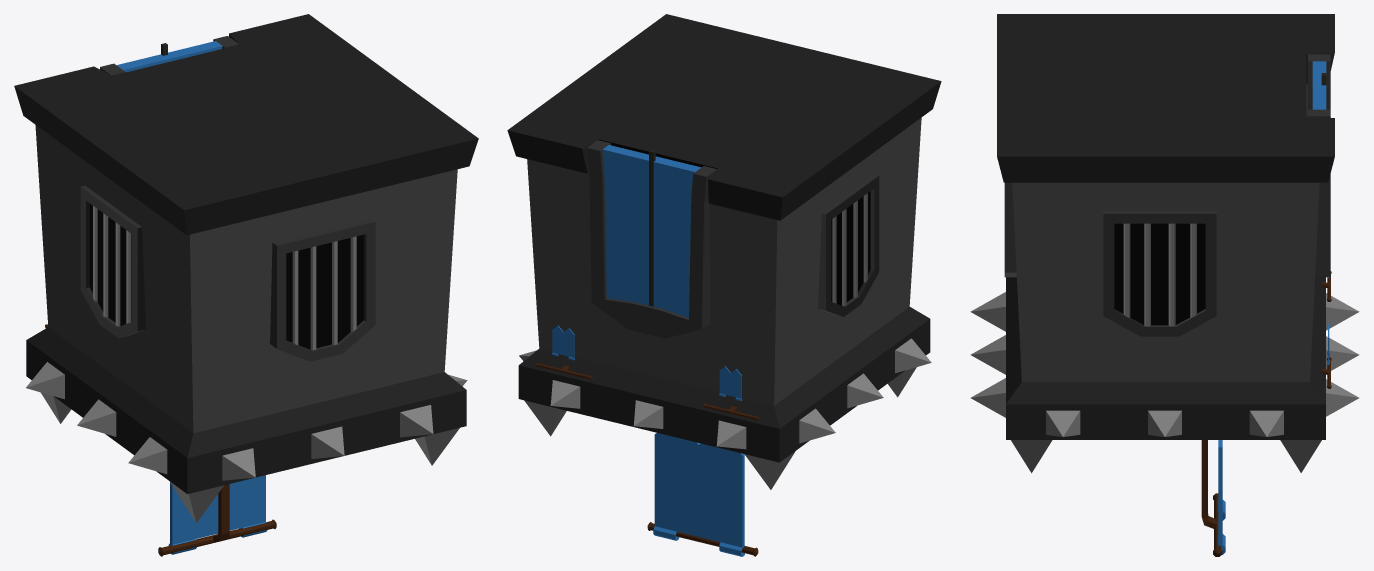
File: testtowr.fbx
The picture shows the model from 3 angles, left to right: view 1: azimuth 30°, elevation 25°; view 2: azimuth 150°, elevation 25°; view 3: azimuth 270°, elevation 25°; orthographic projection. The views are drawn at different scales.
Parts seen in each view (by area): view 1: CastleBlueD; view 2: CastleBlueD; view 3: CastleBlueD.
Part boxes in pixels (box(x1,y1,x2,y2)): CastleBlueD: box(14, 14, 478, 556); CastleBlueD: box(507, 14, 941, 556); CastleBlueD: box(970, 14, 1359, 556).
Size of the model in its own units: 271 by 351 by 271.
